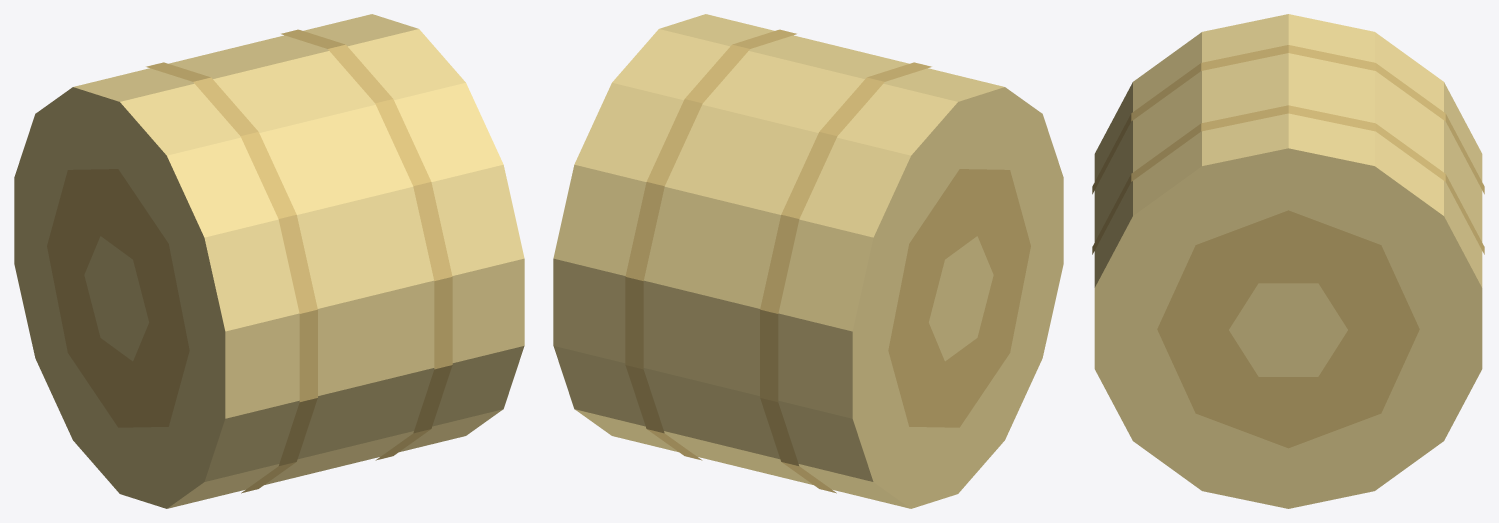
The model's file is bale.glb.
The picture shows the model from 3 angles, left to right: view 1: azimuth 30°, elevation 25°; view 2: azimuth 150°, elevation 25°; view 3: azimuth 270°, elevation 25°; orthographic projection. The views are drawn at different scales.
Visible parts, largest first — view 1: bale; view 2: bale; view 3: bale.
Part boxes in pixels (left/top/right/bottom): bale: left=14, top=14, right=524, bottom=508; bale: left=553, top=14, right=1063, bottom=508; bale: left=1092, top=14, right=1484, bottom=508.
Size of the model in its own units: 1.17 by 1.45 by 1.42.
